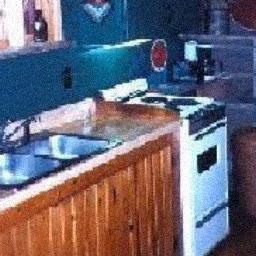Electrodomestico: (186, 106, 233, 250)
Lavaplatos: (0, 122, 123, 202)
